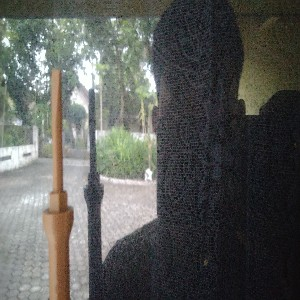obeng: (42, 67, 75, 300)
